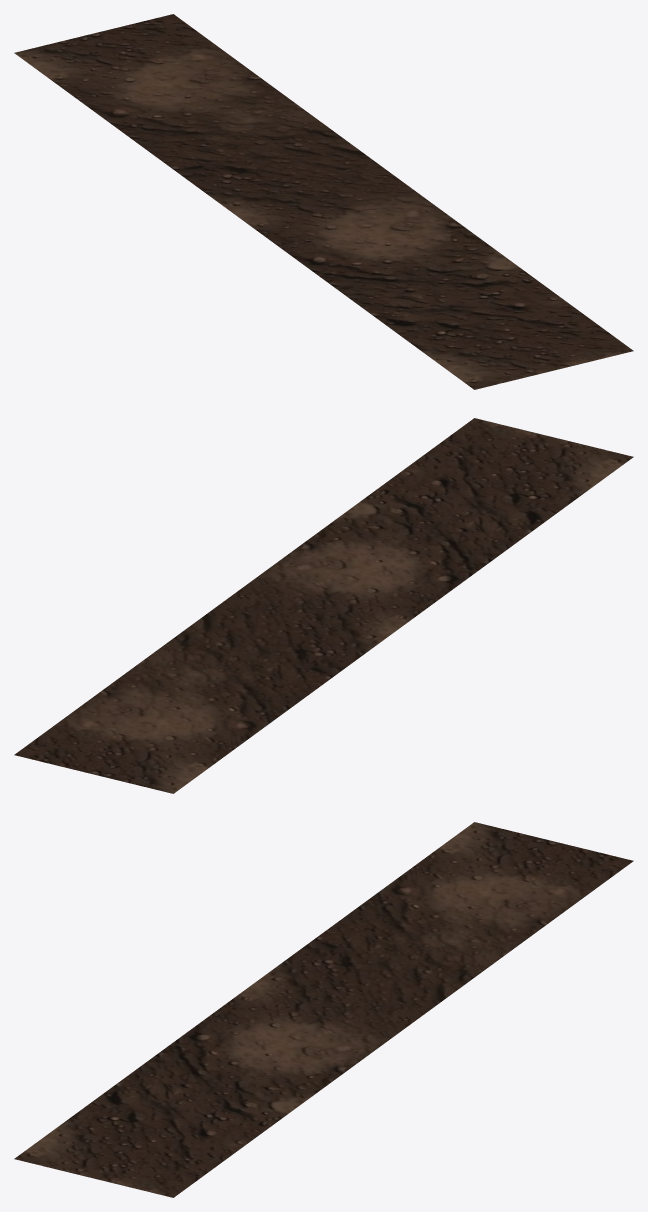
The model's file is floor_-2_-14.glb.
3 views of the same model, one above another, from view 1: azimuth 30°, elevation 25°; view 2: azimuth 150°, elevation 25°; view 3: azimuth 330°, elevation 25° (orthographic).
Visible parts, largest first — view 1: floor_-2_-14; view 2: floor_-2_-14; view 3: floor_-2_-14.
Boxes of the visible parts, x1,y1,x2,y2 form: floor_-2_-14: (14, 14, 633, 389); floor_-2_-14: (14, 418, 633, 793); floor_-2_-14: (14, 822, 633, 1197).
Size of the model in its own units: 4 by 0 by 20.
1 material, 1 textured.
